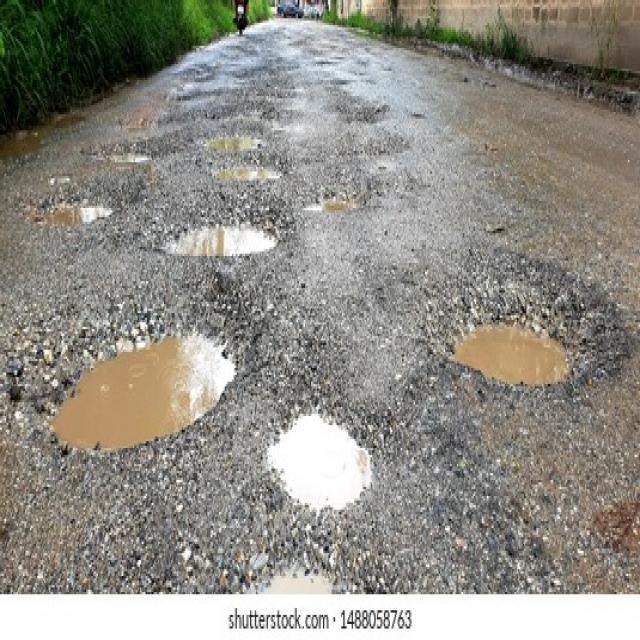Pothole: (41, 310, 243, 458), (258, 398, 379, 521), (440, 311, 590, 388), (155, 214, 280, 258), (32, 196, 112, 231), (216, 162, 288, 185), (203, 130, 266, 153), (304, 192, 365, 215), (108, 148, 154, 167)
